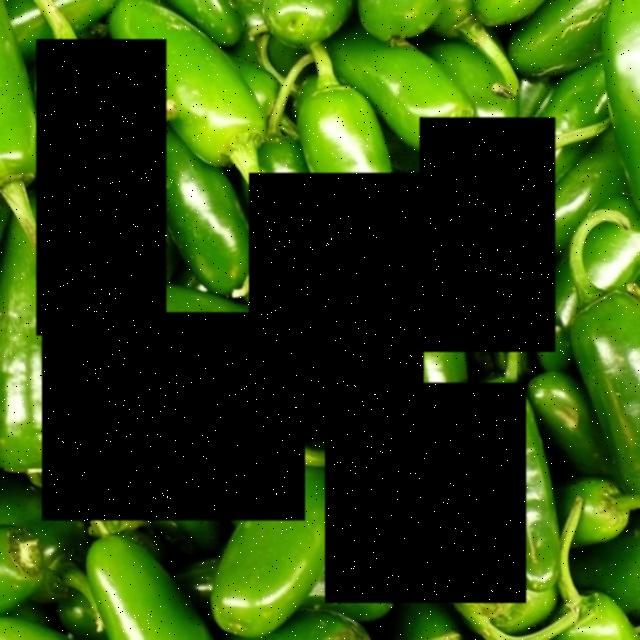Chili_Pepper: (42, 312, 306, 521), (249, 173, 424, 443), (325, 383, 526, 603), (37, 39, 167, 336), (420, 118, 556, 352)
